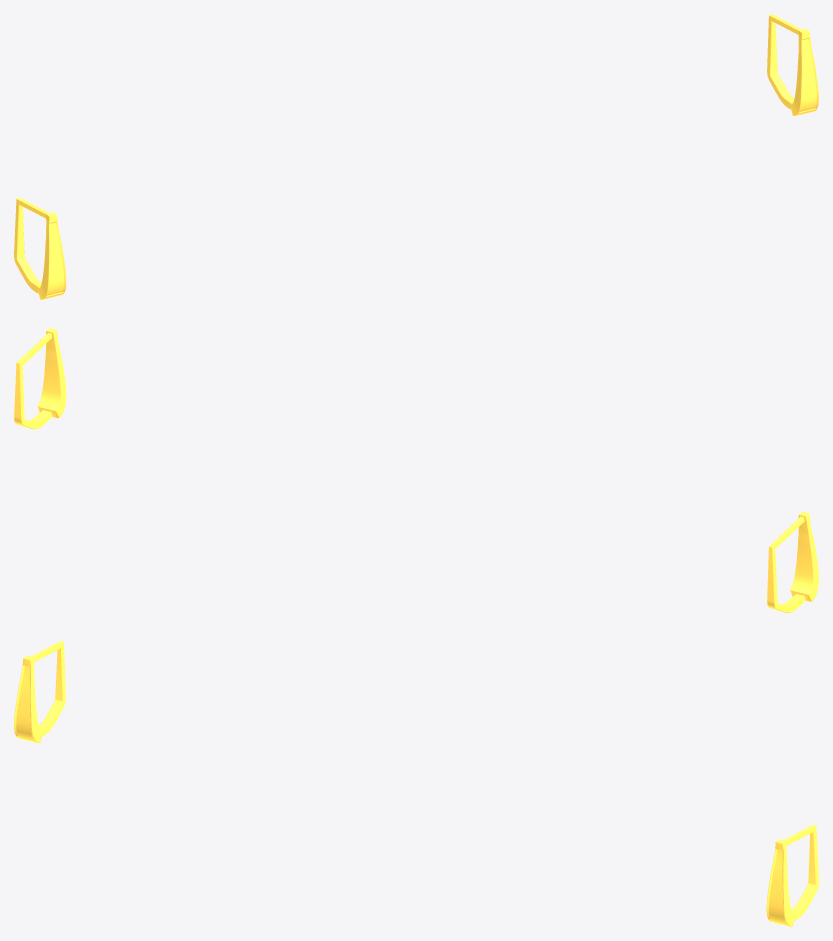
The model's file is jewelry_hoopdrop_gold.glb.
3 views of the same model, one above another, from view 1: azimuth 30°, elevation 25°; view 2: azimuth 150°, elevation 25°; view 3: azimuth 330°, elevation 25° (orthographic).
Parts seen in each view (by area): view 1: jewelry_hoopdrop_gold; view 2: jewelry_hoopdrop_gold; view 3: jewelry_hoopdrop_gold.
Part boxes in pixels (x1,y1,x2,y2): jewelry_hoopdrop_gold: (14, 14, 818, 299); jewelry_hoopdrop_gold: (14, 328, 818, 612); jewelry_hoopdrop_gold: (14, 641, 818, 926).
Size of the model in its own units: 0.3441 by 0.0366 by 0.0304.
